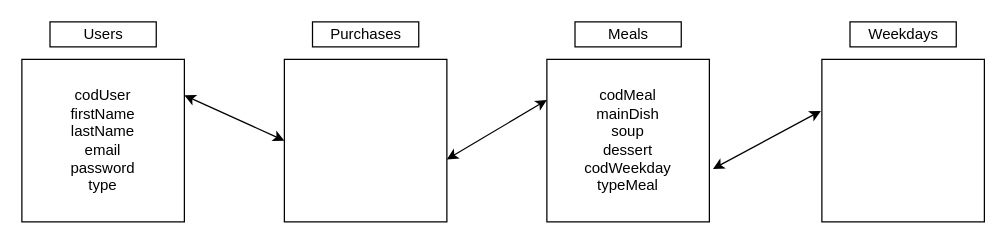
Some shapes in this 1006 by 244 pixel diagram are drawn without their labels. The shapes that lost their labels are listed below. From the top down, each one's centre as x and y in pixels, then its label:
the point at 365,140: codPurchase codUser codMeal
the point at 902,140: codWeekday name date userLimit
